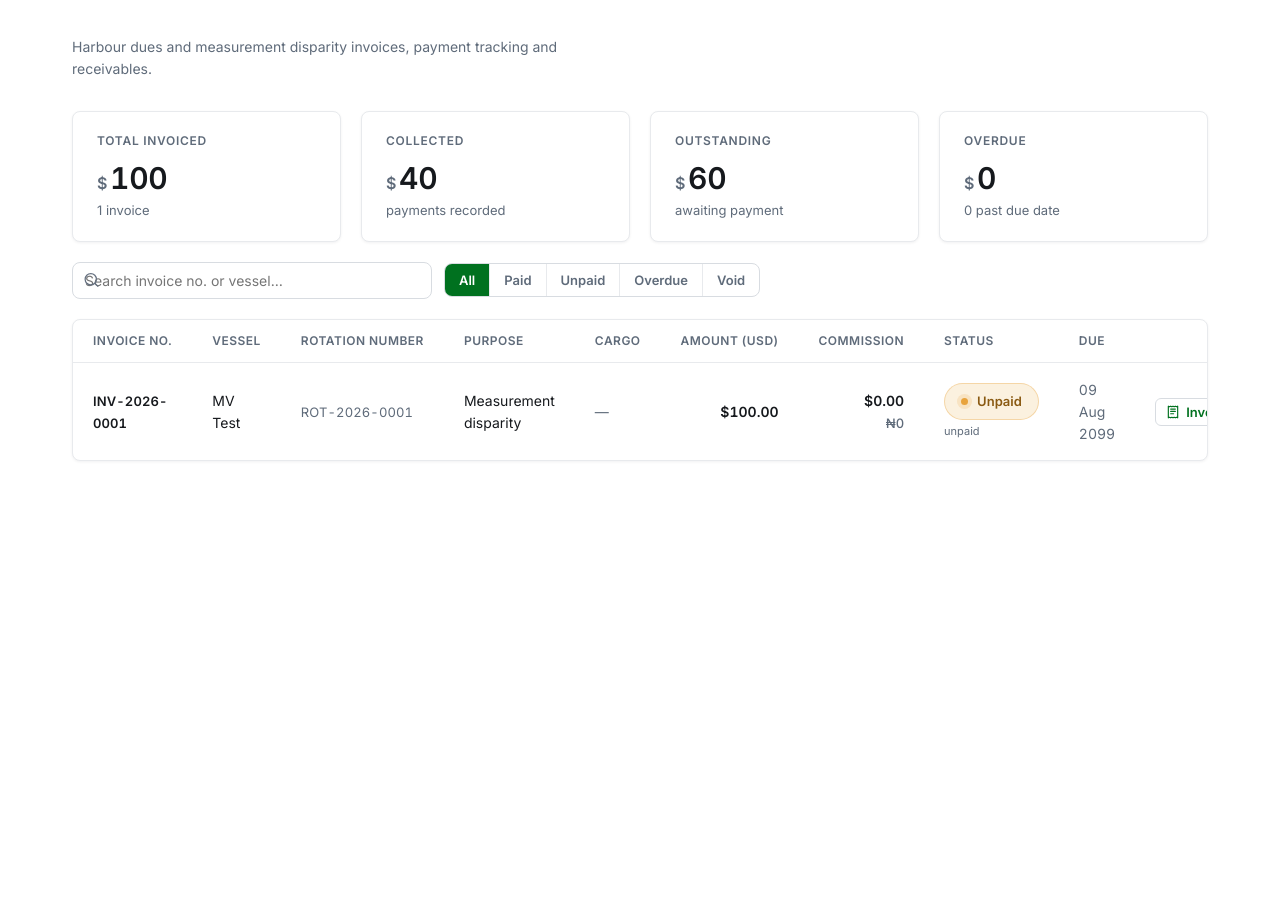
Test: Invoices payment workflow › shows the approved disparity snapshot without a net tonnage charge
Step 1. Click the row "INV-2026-0001" → (130, 401), box [73, 363, 1262, 460]
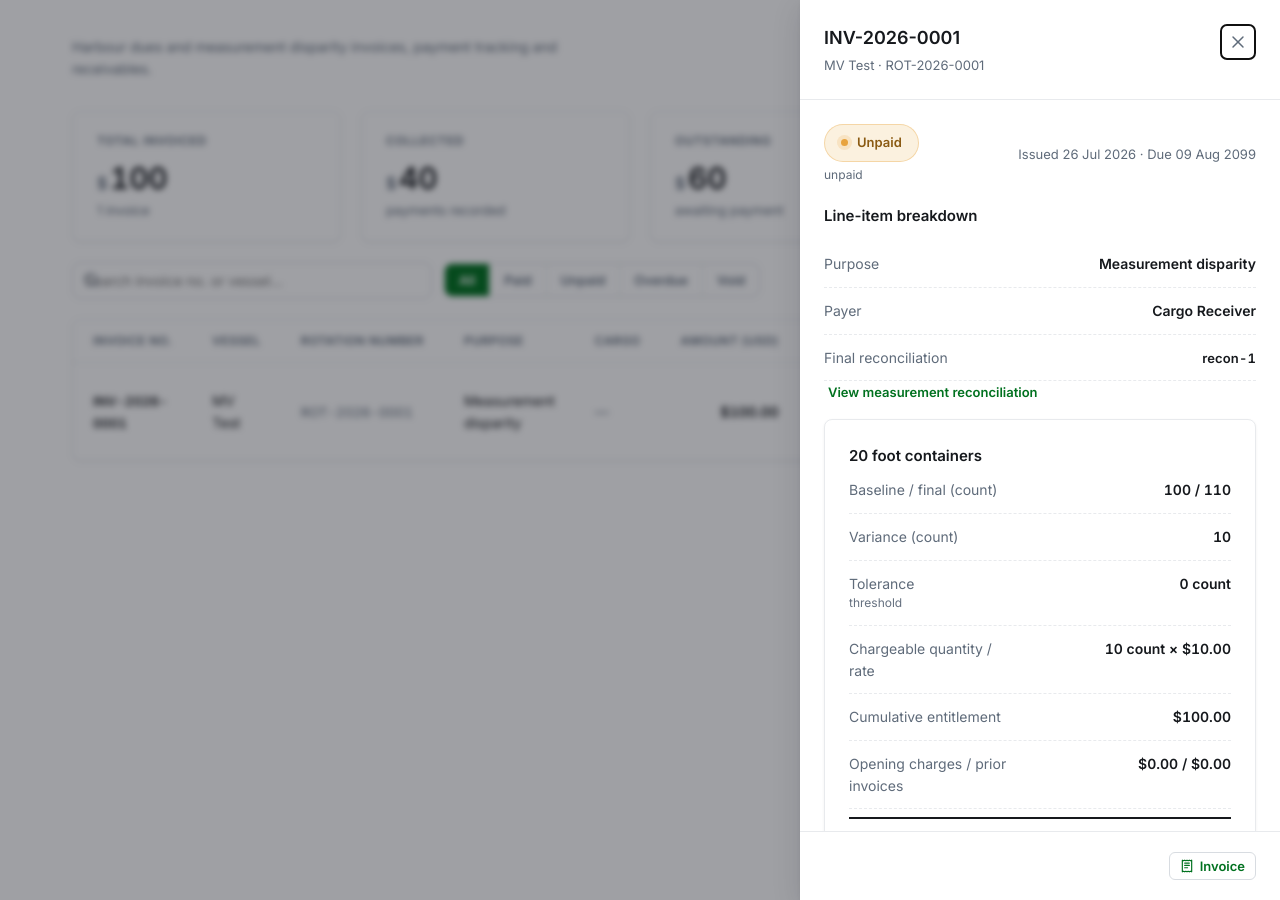
Expected: the text "Cargo Receiver" is shown, [1152, 302, 1256, 319]
Expected: the text "20 foot containers" is shown, [849, 446, 982, 465]
Expected: the text "100 / 110" is shown, [1164, 481, 1231, 498]
